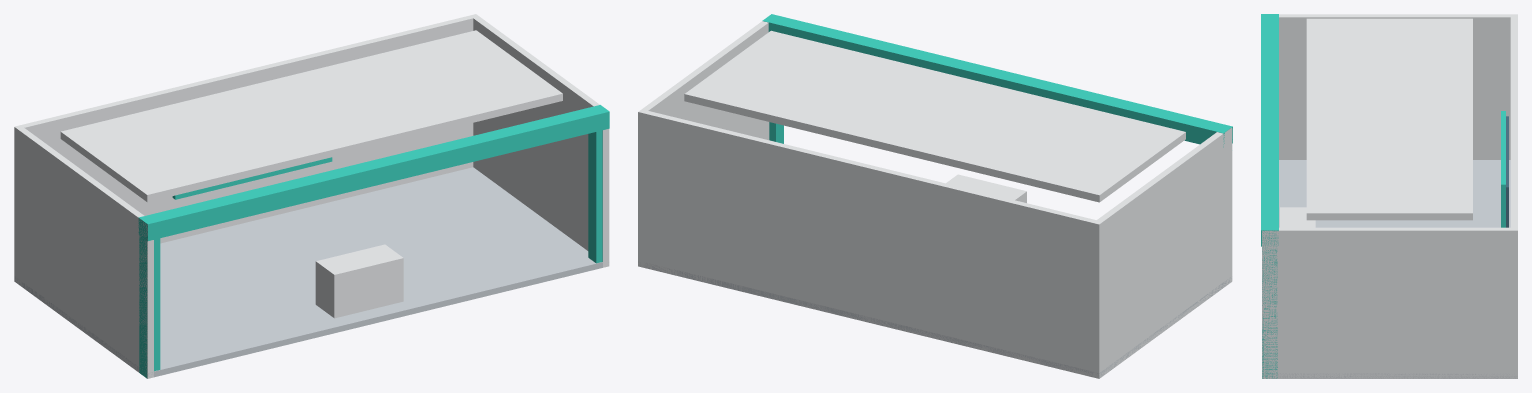
3 views of the same model, side by side, from view 1: azimuth 30°, elevation 25°; view 2: azimuth 150°, elevation 25°; view 3: azimuth 270°, elevation 25° (orthographic). The views are drawn at different scales.
Parts seen in each view (by area): view 1: Exhibition Booth Concept; view 2: Exhibition Booth Concept; view 3: Exhibition Booth Concept.
Boxes of the visible parts, x1,y1,x2,y2 form: Exhibition Booth Concept: (14, 14, 609, 378); Exhibition Booth Concept: (638, 14, 1232, 378); Exhibition Booth Concept: (1261, 14, 1517, 378).
Size of the model in its own units: 10 by 3.34 by 5.02.
